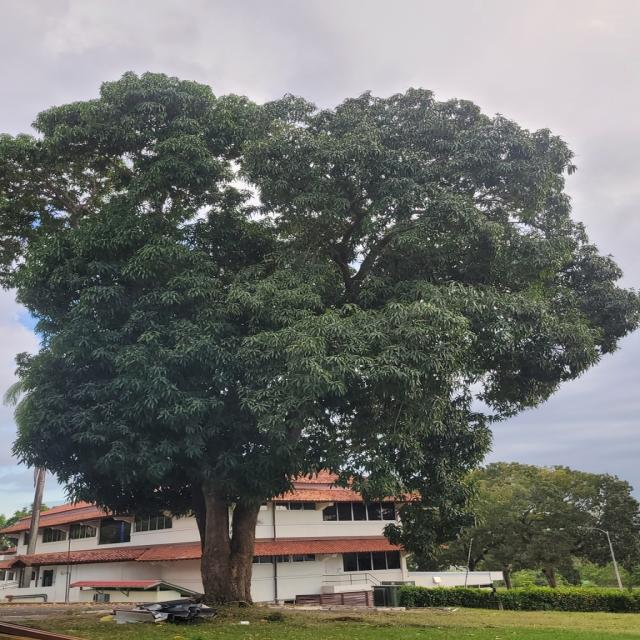Mango-Tree: (17, 82, 640, 598)
